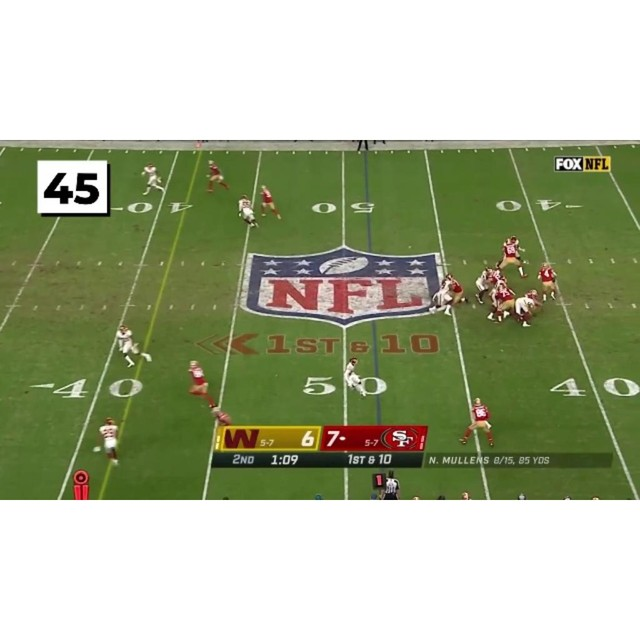american-football-player: (459, 396, 494, 447), (115, 324, 152, 367), (187, 359, 216, 407), (495, 235, 527, 278), (96, 417, 121, 466), (429, 272, 454, 315), (511, 290, 539, 328), (343, 356, 366, 397), (206, 159, 230, 194), (495, 283, 516, 322), (142, 162, 166, 196), (260, 184, 282, 220), (538, 262, 558, 301), (446, 274, 468, 309), (237, 194, 259, 228), (474, 268, 492, 304), (209, 404, 232, 428)
